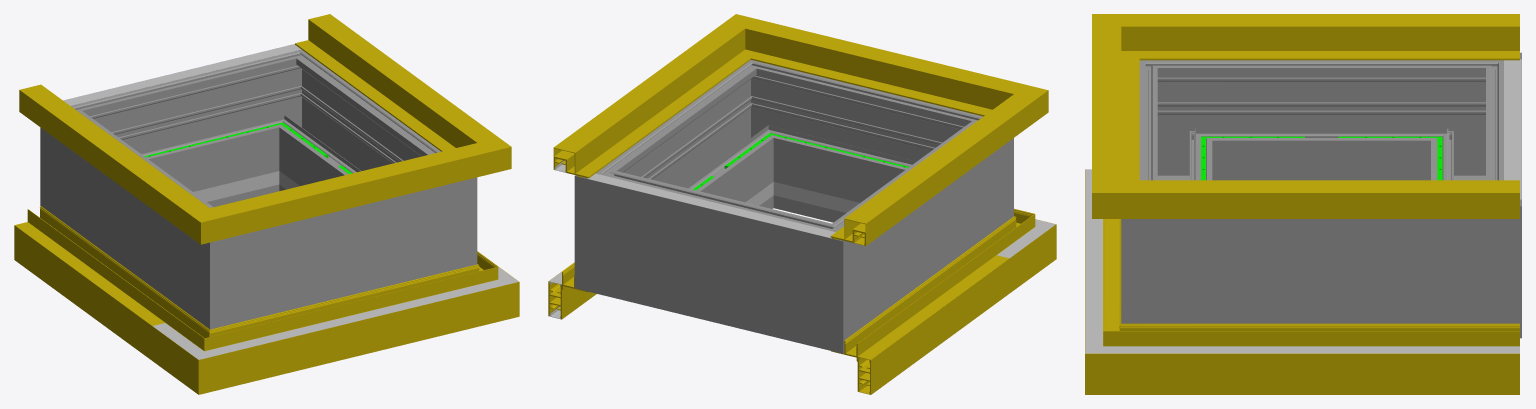
3 views of the same model, side by side, from view 1: azimuth 30°, elevation 25°; view 2: azimuth 150°, elevation 25°; view 3: azimuth 270°, elevation 25° (orthographic). The views are drawn at different scales.
Parts seen in each view (by area): view 1: 3DGeom-276, 3DGeom-270, 3DGeom-298, 3DGeom-90, 3DGeom-85, 3DGeom-284, 3DGeom-128, 3DGeom-290, 3DGeom-297, 3DGeom-86, 3DGeom-268, 3DGeom-118 (+11 smaller); view 2: 3DGeom-278, 3DGeom-276, 3DGeom-298, 3DGeom-284, 3DGeom-85, 3DGeom-290, 3DGeom-128, 3DGeom-297, 3DGeom-118, 3DGeom-268, 3DGeom-123, 3DGeom-270 (+8 smaller); view 3: 3DGeom-268, 3DGeom-97, 3DGeom-297, 3DGeom-118, 3DGeom-128, 3DGeom-284, 3DGeom-290, 3DGeom-278, 3DGeom-270, 3DGeom-92, 3DGeom-120, 3DGeom-125 (+9 smaller).
Part boxes in pixels (x1,y1,x2,y2): 3DGeom-276: (123, 61, 265, 206); 3DGeom-270: (163, 190, 290, 329); 3DGeom-298: (290, 197, 397, 309); 3DGeom-90: (263, 277, 439, 375); 3DGeom-85: (14, 206, 178, 360); 3DGeom-284: (231, 44, 340, 194); 3DGeom-128: (295, 14, 464, 143); 3DGeom-290: (397, 134, 477, 283); 3DGeom-297: (287, 78, 417, 185); 3DGeom-86: (152, 307, 278, 394); 3DGeom-268: (86, 133, 189, 295); 3DGeom-118: (19, 84, 175, 210); 3DGeom-278: (762, 201, 889, 353); 3DGeom-276: (655, 184, 777, 333); 3DGeom-298: (787, 76, 925, 222); 3DGeom-284: (574, 145, 670, 307); 3DGeom-85: (831, 239, 1009, 394); 3DGeom-290: (712, 60, 817, 211); 3DGeom-128: (553, 48, 724, 178); 3DGeom-297: (634, 88, 765, 207); 3DGeom-118: (830, 119, 1001, 245); 3DGeom-268: (863, 144, 967, 306); 3DGeom-123: (796, 33, 967, 107); 3DGeom-270: (894, 102, 1013, 249); 3DGeom-268: (1230, 60, 1412, 180); 3DGeom-97: (1194, 323, 1519, 394); 3DGeom-297: (1230, 219, 1412, 323); 3DGeom-118: (1201, 14, 1519, 60); 3DGeom-128: (1201, 180, 1519, 218); 3DGeom-284: (1412, 160, 1521, 338); 3DGeom-290: (1121, 160, 1230, 323); 3DGeom-278: (1412, 52, 1521, 180); 3DGeom-270: (1139, 60, 1230, 180); 3DGeom-92: (1085, 293, 1194, 394); 3DGeom-120: (1092, 14, 1200, 84); 3DGeom-125: (1092, 146, 1200, 218).
Size of the model in its own units: 0.6096 by 0.3069 by 0.6096.
